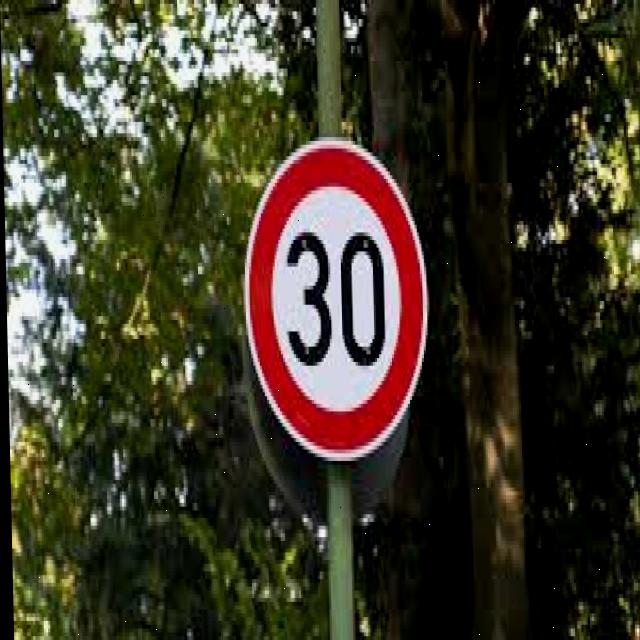Speed limit 30: (238, 134, 431, 466)
